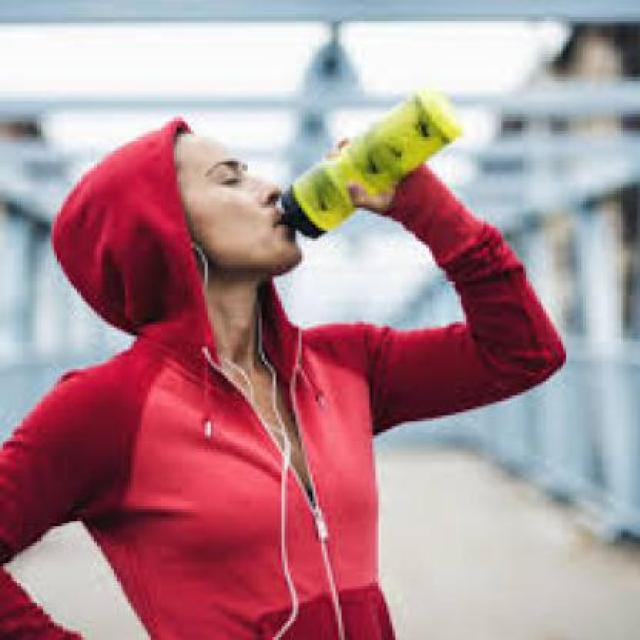Drinking: (296, 88, 455, 240)
